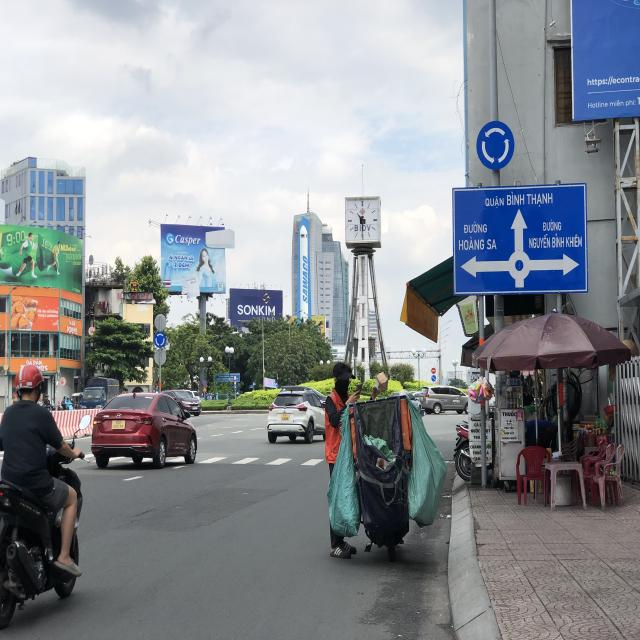Bien bao noi giao nhau chay theo vong xuyen: (473, 115, 516, 171), (154, 330, 167, 348)
